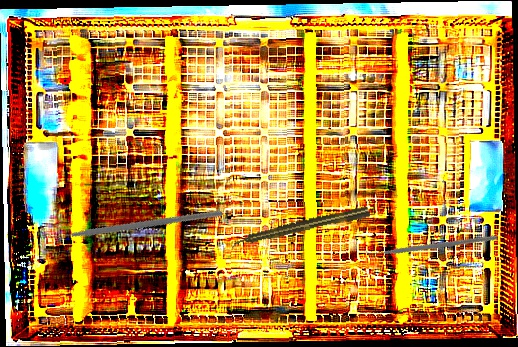Chopper: (39, 130, 224, 311), (359, 175, 499, 310)
Handpiece: (228, 204, 373, 250)
